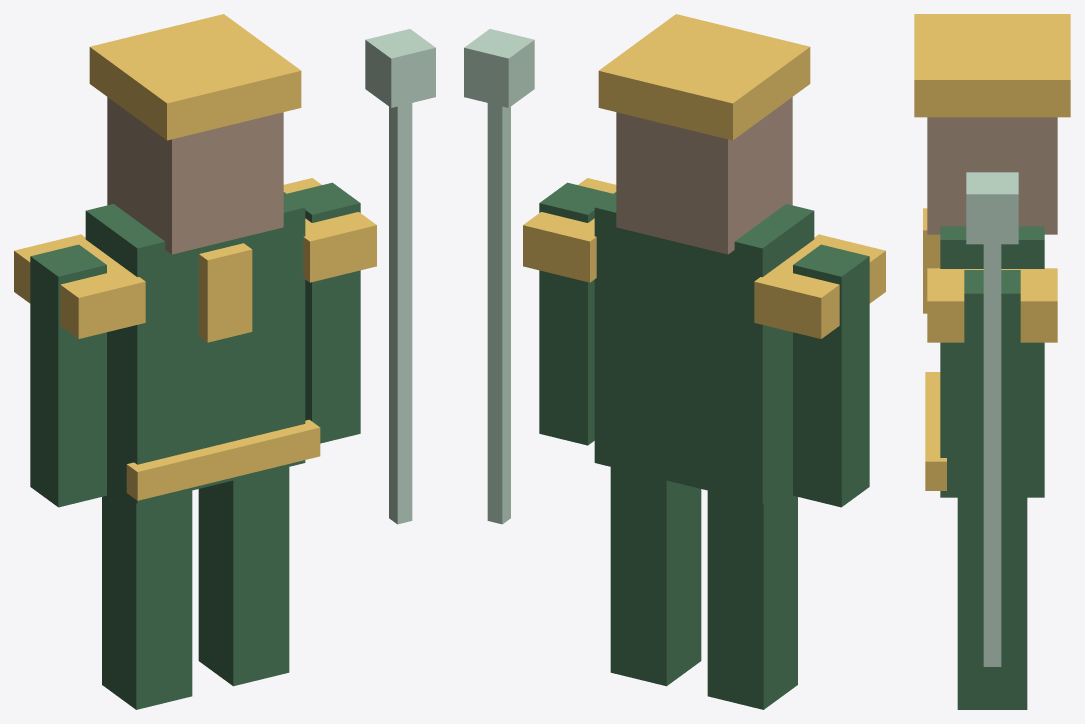
File: 18_brant_riftwalker_scout_from_tamers.glb
The picture shows the model from 3 angles, left to right: view 1: azimuth 30°, elevation 25°; view 2: azimuth 150°, elevation 25°; view 3: azimuth 270°, elevation 25°; orthographic projection.
Parts seen in each view (by area): view 1: Brant Riftwalker, Scout from Tamer's; view 2: Brant Riftwalker, Scout from Tamer's; view 3: Brant Riftwalker, Scout from Tamer's.
Part boxes in pixels (x1,y1,x2,y2): Brant Riftwalker, Scout from Tamer's: (14, 14, 435, 709); Brant Riftwalker, Scout from Tamer's: (464, 14, 885, 709); Brant Riftwalker, Scout from Tamer's: (914, 14, 1070, 709).
Bounding box in the file's own units: 1.05 × 1.64 × 0.3726.
